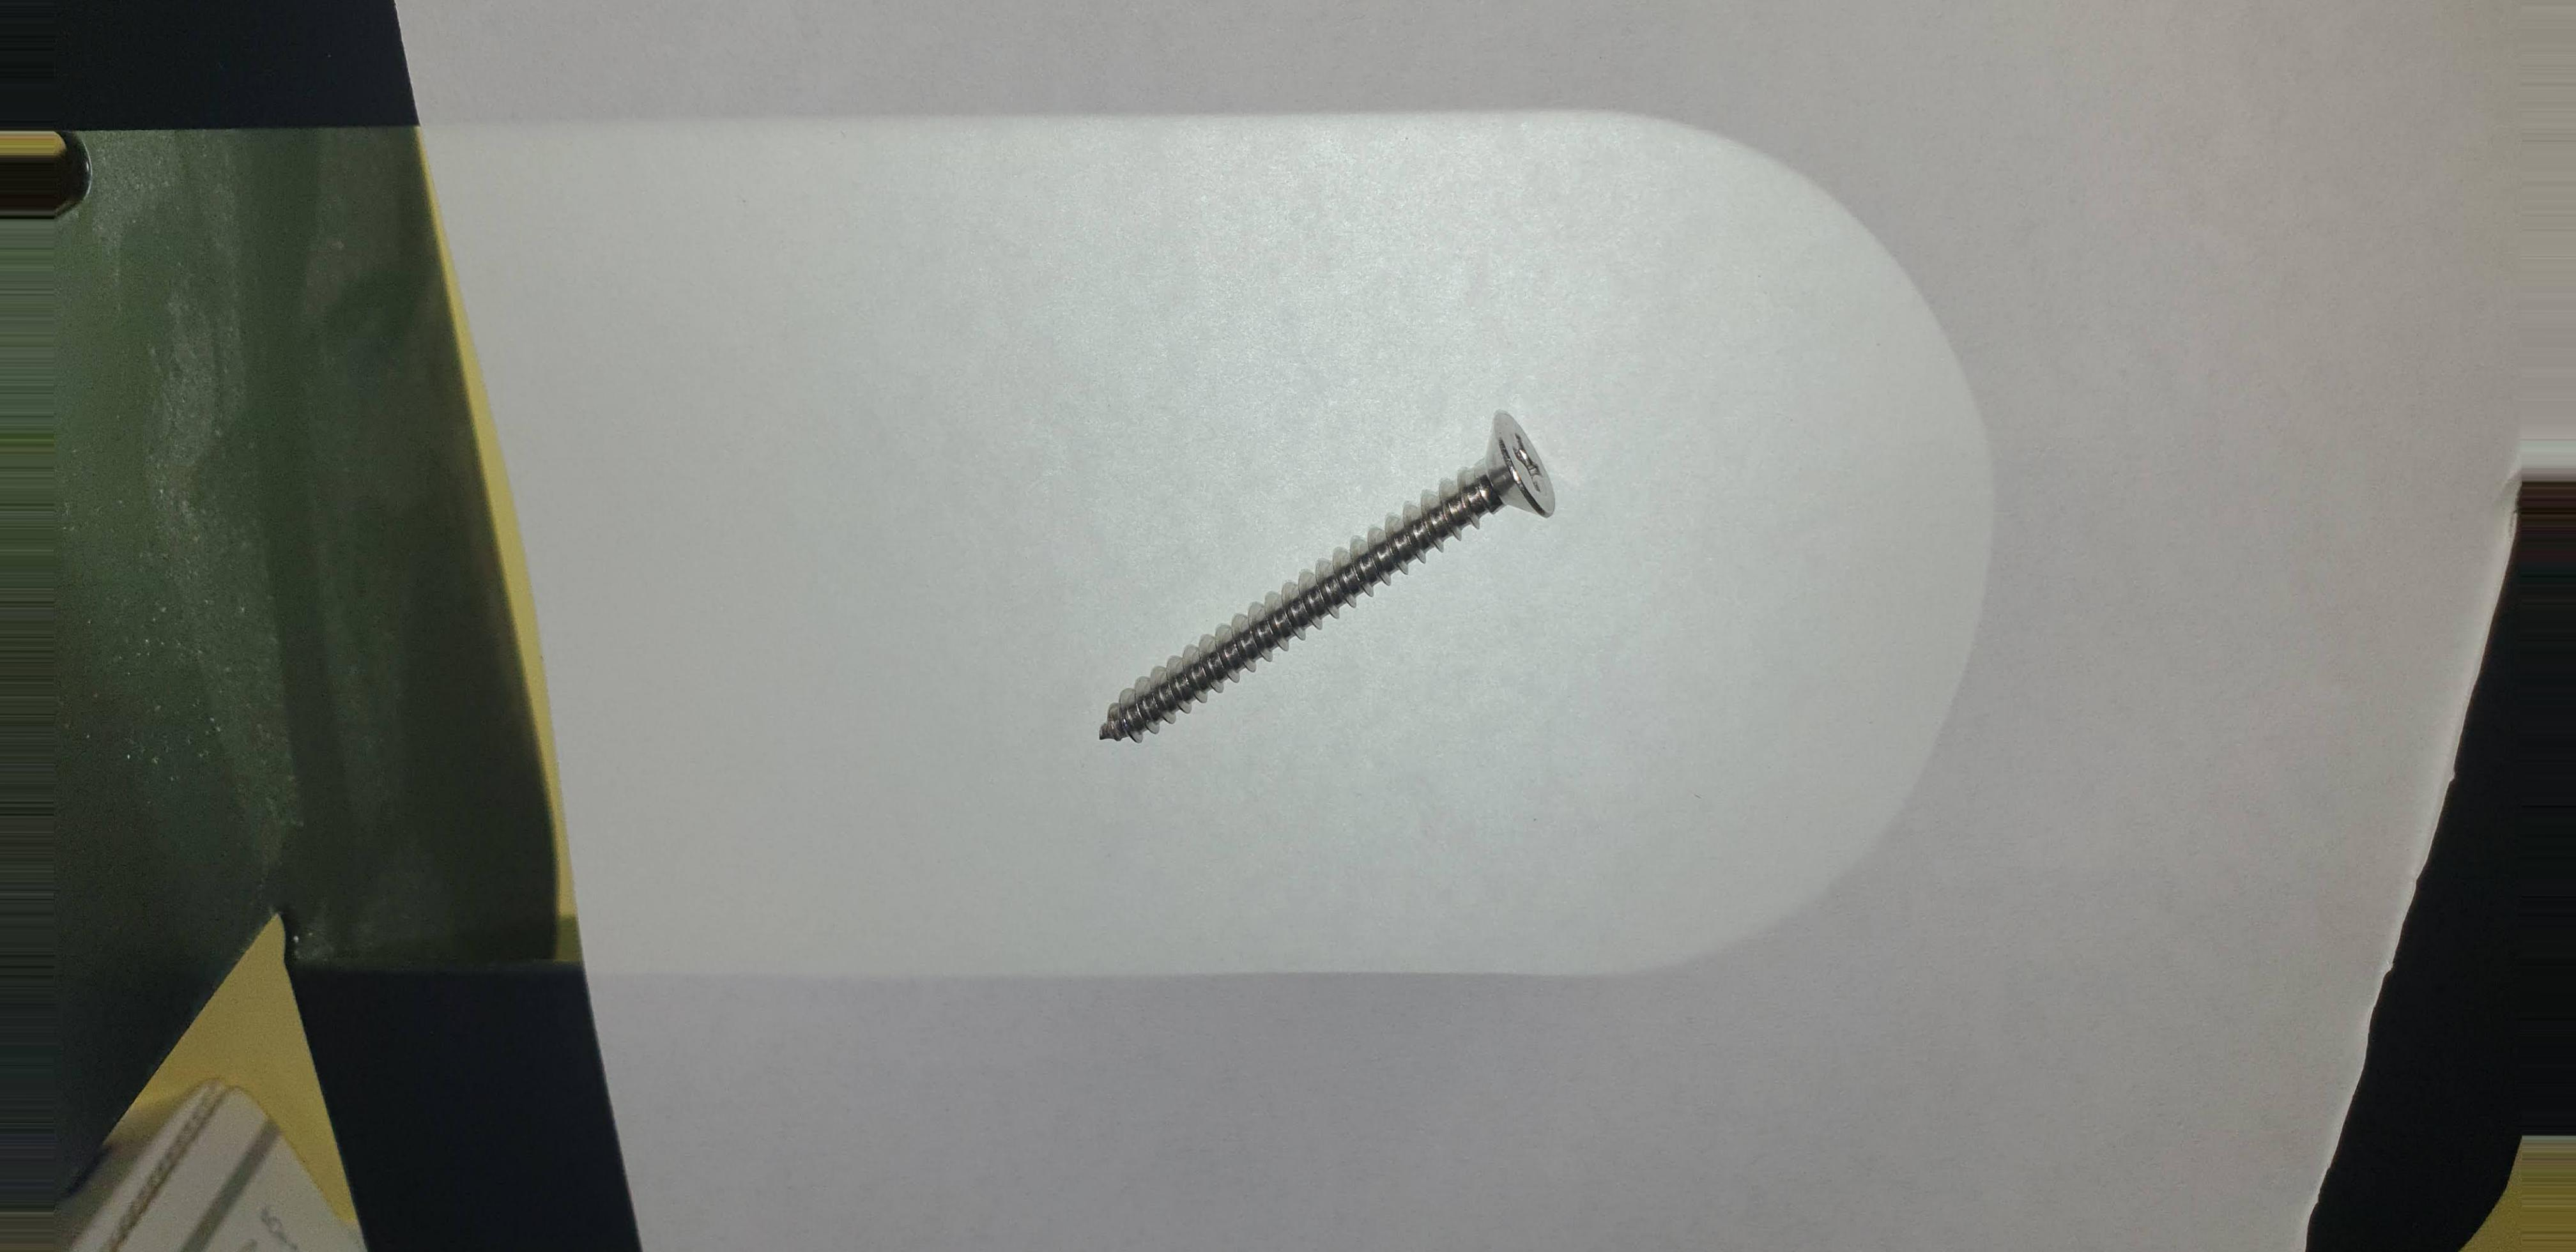fastener: (1012, 376, 1666, 790)
